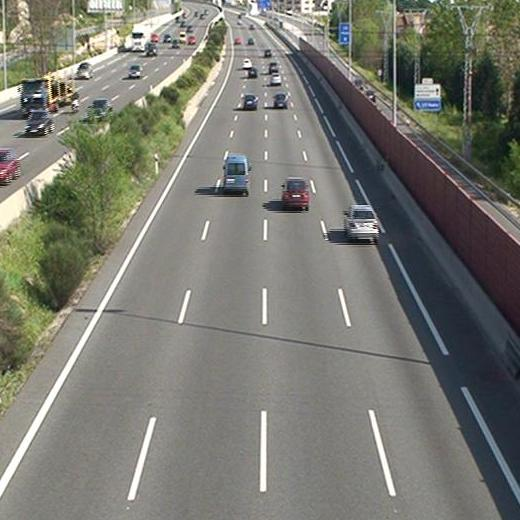car: (344, 207, 378, 240), (282, 177, 309, 208), (274, 92, 287, 108), (243, 95, 257, 109), (271, 74, 282, 85), (248, 68, 258, 78), (269, 62, 278, 71), (242, 58, 251, 67)
van: (224, 156, 250, 192)
